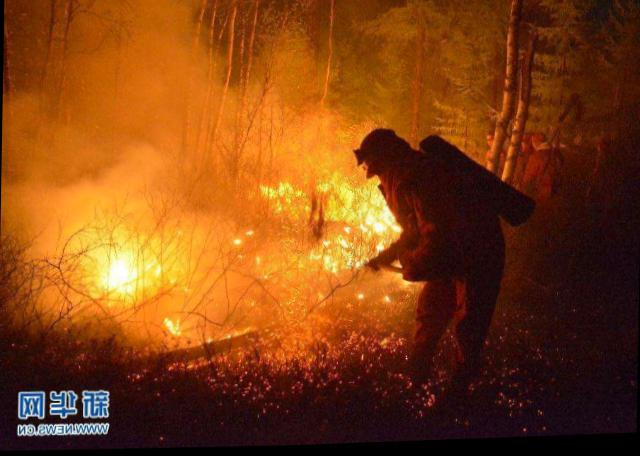fire: (270, 163, 396, 283), (88, 226, 174, 315)
